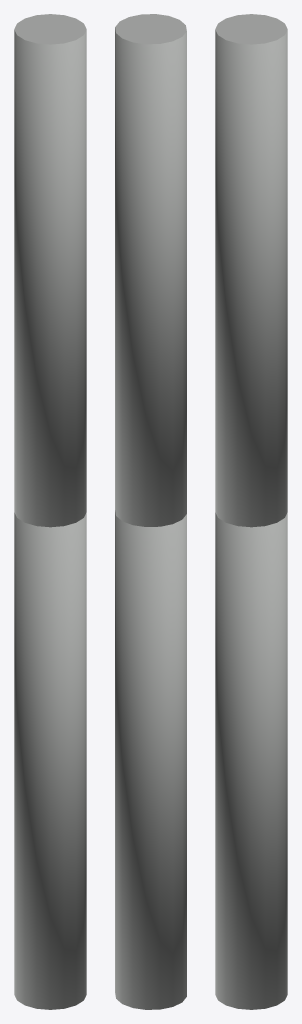
The model's file is pipe_m05.obj.
3 renders of one model, left to right at view 1: azimuth 90°, elevation 25°; view 2: azimuth 150°, elevation 25°; view 3: azimuth 270°, elevation 25°, orthographic.
Parts seen in each view (by area): view 1: pipe4, pipe1; view 2: pipe4, pipe1; view 3: pipe4, pipe1.
Boxes of the visible parts, left/top/right/bottom form: pipe4: left=14, top=14, right=86, bottom=527; pipe1: left=14, top=512, right=86, bottom=1009; pipe4: left=115, top=14, right=186, bottom=526; pipe1: left=115, top=510, right=186, bottom=1009; pipe4: left=215, top=14, right=287, bottom=527; pipe1: left=215, top=512, right=287, bottom=1009.
Bounding box in the file's own units: 0.068 × 1 × 0.068.
1 material, 1 textured.
